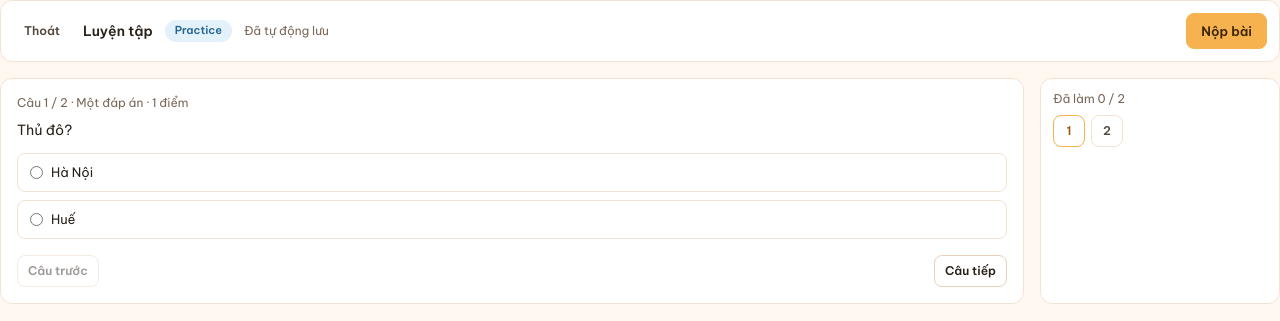
it: QuizTakingPage (UC 51) › lần lưu sau chờ lần lưu đang chạy xong rồi gửi answerVersion mới
Click the radio button with test id "quiz-taking-option-1" at (36, 173), box [30,166,43,179]
Wait 2010 ms
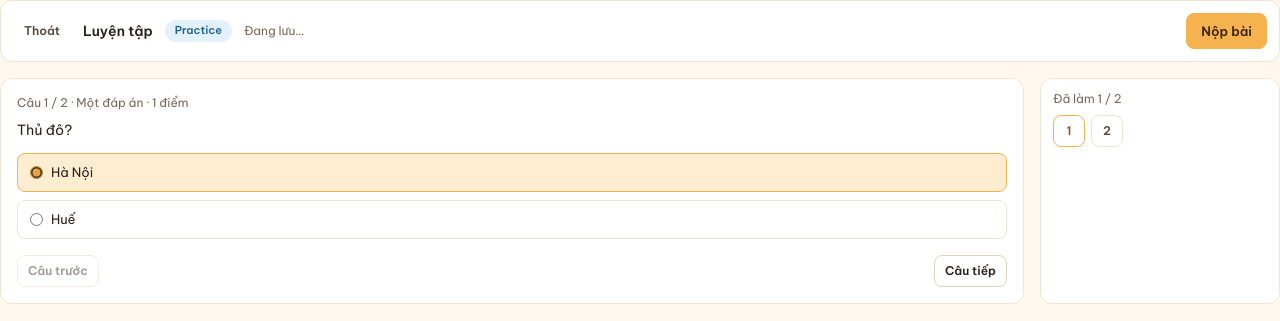
Click the radio button with test id "quiz-taking-option-2" at (36, 220), box [30,213,43,226]
Wait 2010 ms
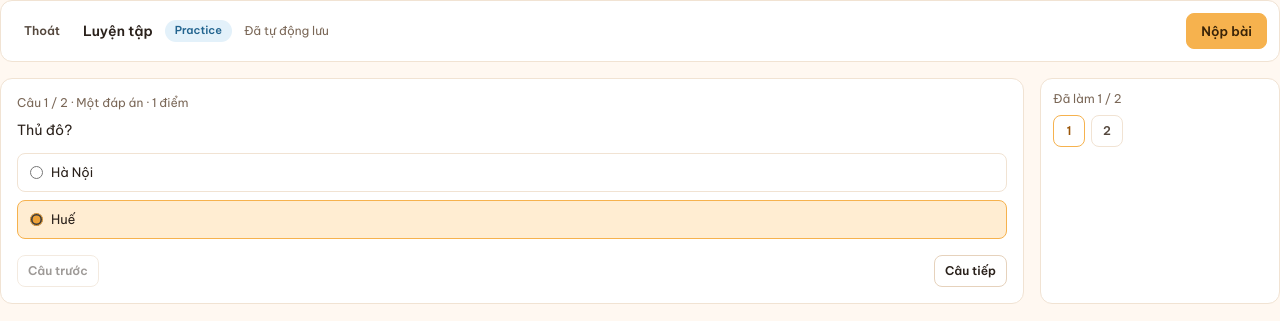
Expected: the text "Đã tự động lưu" is shown, [244,23,329,39]
